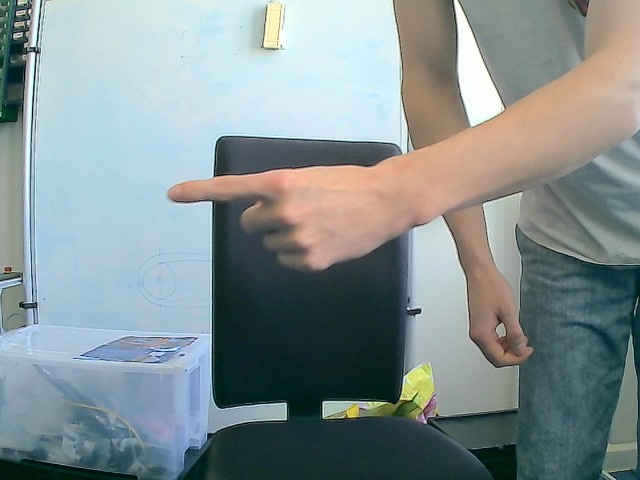no_gesture: (465, 262, 536, 371)
right: (166, 161, 405, 274)
